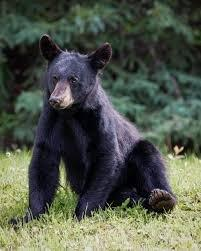bear: (9, 33, 177, 225)
